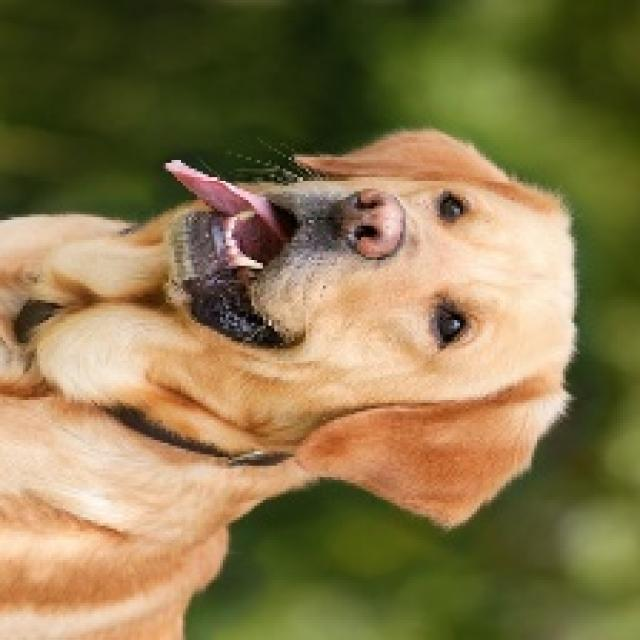animal: (16, 115, 602, 613)
